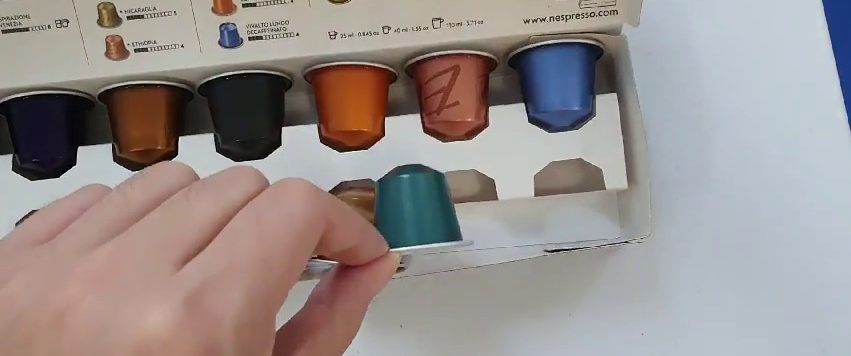capsule_13: (369, 161, 472, 257)
